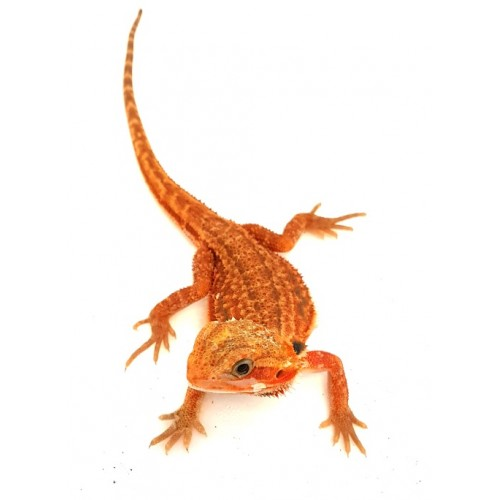bearded: (120, 8, 381, 460)
